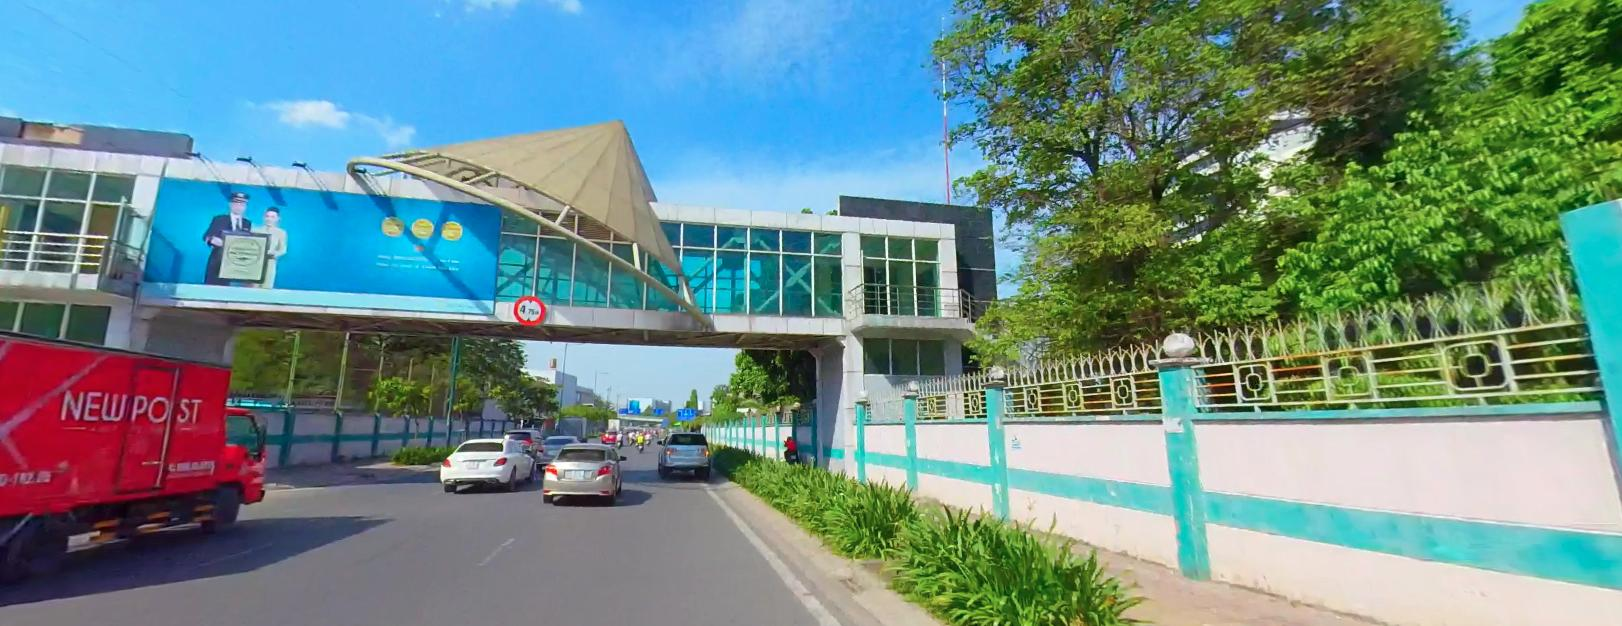Cam con lai: (513, 292, 546, 325)
